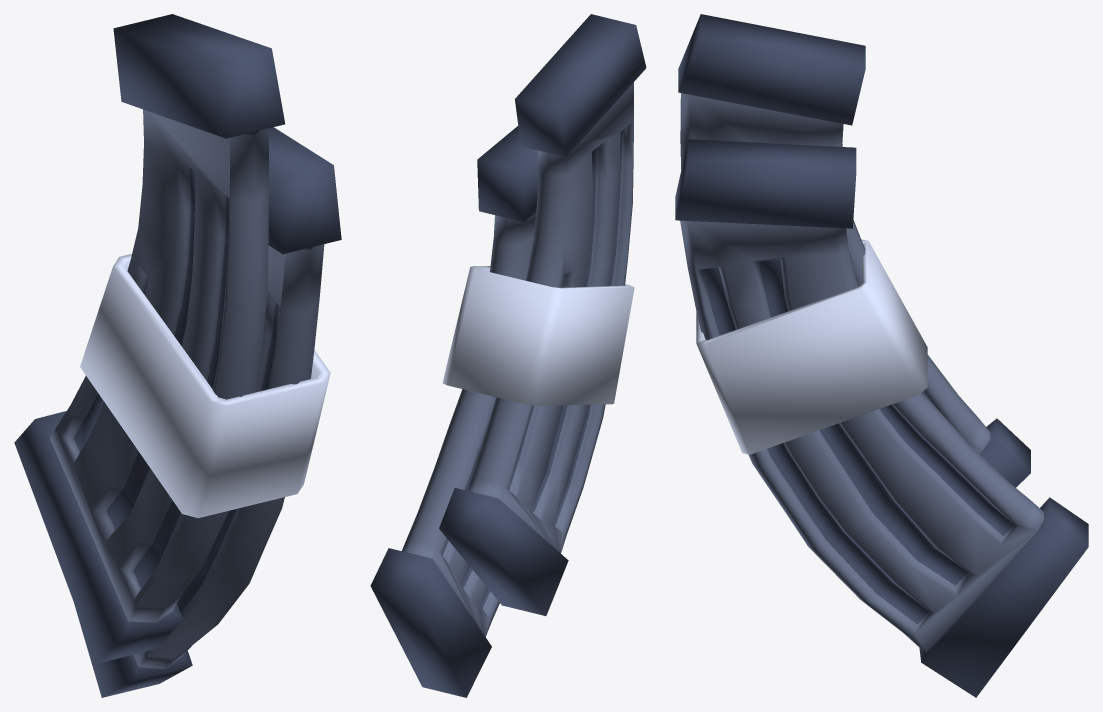
File: Backup Magazine.fbx
The picture shows the model from 3 angles, left to right: view 1: azimuth 30°, elevation 25°; view 2: azimuth 150°, elevation 25°; view 3: azimuth 270°, elevation 25°; orthographic projection. The views are drawn at different scales.
Parts seen in each view (by area): view 1: Backup Magazine; view 2: Backup Magazine; view 3: Backup Magazine.
Part boxes in pixels (bbox=[...]): Backup Magazine: bbox=[14, 14, 341, 697]; Backup Magazine: bbox=[370, 14, 646, 697]; Backup Magazine: bbox=[675, 14, 1088, 697].
Size of the model in its own units: 0.6317 by 3.74 by 2.19.
Materials: 1 (1 with a texture image).
